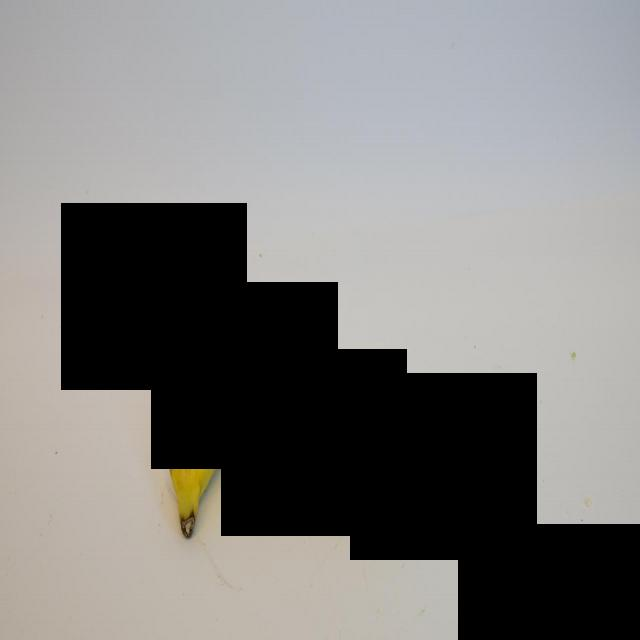banana: (165, 341, 415, 546)
